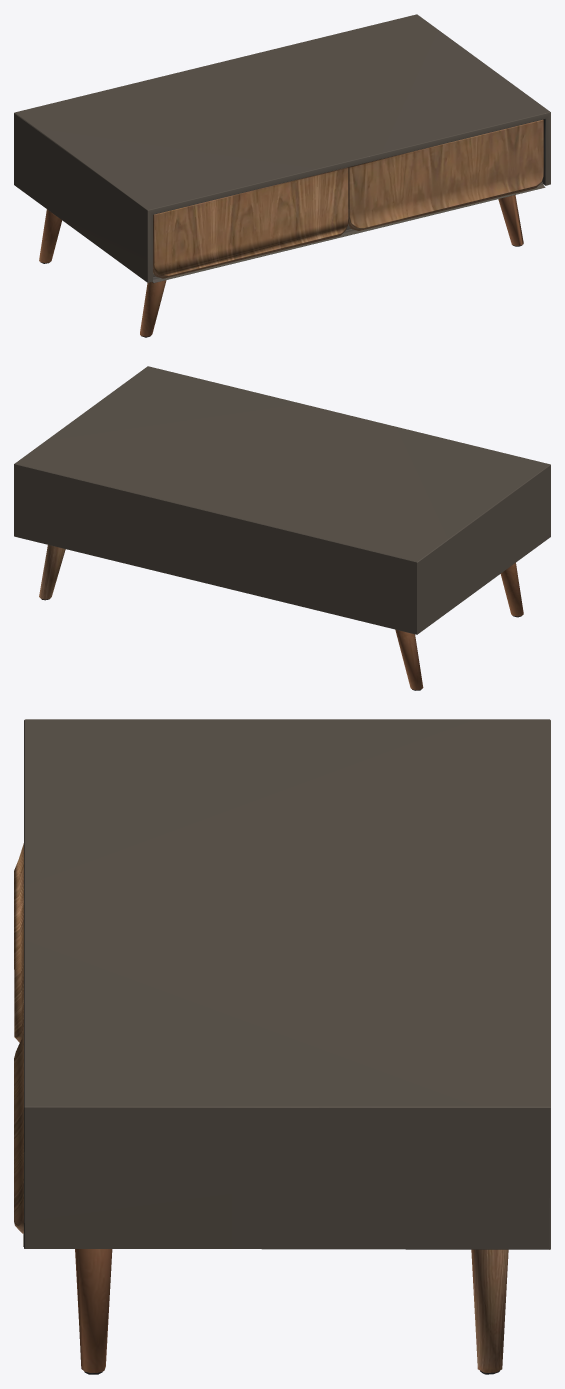
Rendered from abo-B072ZN4NDS.glb.
The picture shows the model from 3 angles, top to bottom: view 1: azimuth 30°, elevation 25°; view 2: azimuth 150°, elevation 25°; view 3: azimuth 270°, elevation 25°; orthographic projection. The views are drawn at different scales.
Visible parts, largest first — view 1: RootNode; view 2: RootNode; view 3: RootNode.
Boxes of the visible parts, box(x1,y1,x2,y2) form: RootNode: box(14, 14, 550, 337); RootNode: box(14, 366, 550, 690); RootNode: box(14, 719, 550, 1374).
Size of the model in its own units: 1.2 by 0.4039 by 0.7026.
Materials: 1 (1 with a texture image).
